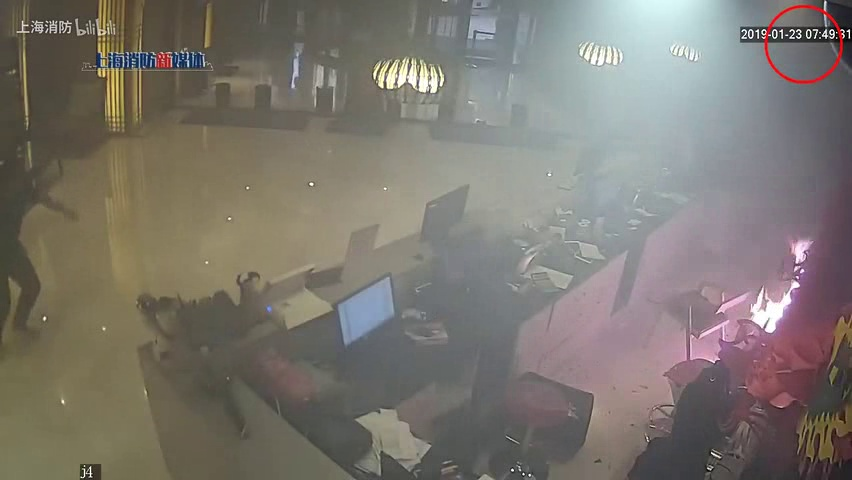fire: (747, 228, 817, 334)
